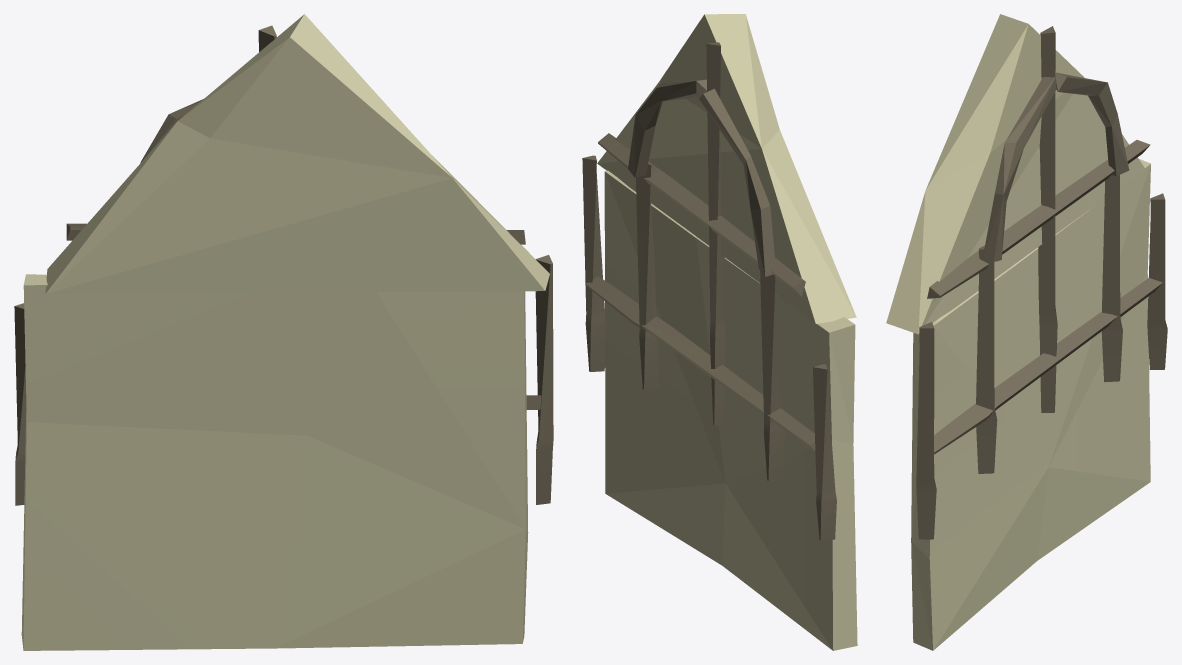
File: RedTopRightWall.fbx
3 renders of one model, left to right at view 1: azimuth 30°, elevation 25°; view 2: azimuth 150°, elevation 25°; view 3: azimuth 270°, elevation 25°, orthographic. The views are drawn at different scales.
Parts seen in each view (by area): view 1: RedTopRightWall_Merged; view 2: RedTopRightWall_Merged; view 3: RedTopRightWall_Merged.
Part boxes in pixels (<box>): RedTopRightWall_Merged: <box>14,14,553,650</box>; RedTopRightWall_Merged: <box>582,14,857,650</box>; RedTopRightWall_Merged: <box>886,14,1167,650</box>.
Size of the model in its own units: 545 by 775 by 357.
